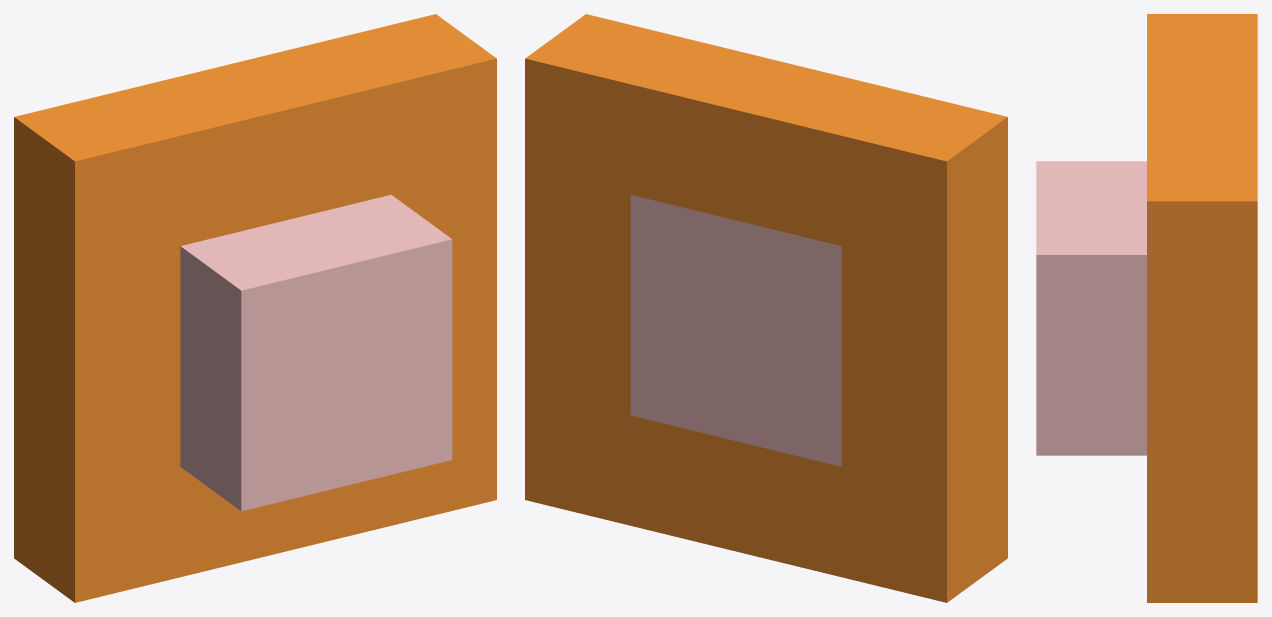
File: pracGenny-17-LShoulder.obj
The picture shows the model from 3 angles, left to right: view 1: azimuth 30°, elevation 25°; view 2: azimuth 150°, elevation 25°; view 3: azimuth 270°, elevation 25°; orthographic projection. The views are drawn at different scales.
Visible parts, largest first — view 1: LShoulder; view 2: LShoulder; view 3: LShoulder.
Boxes of the visible parts, left/top/right/bottom form: LShoulder: left=14, top=14, right=496, bottom=602; LShoulder: left=525, top=14, right=1007, bottom=602; LShoulder: left=1036, top=14, right=1257, bottom=602.
Size of the model in its own units: 0.4 by 0.4 by 0.2.
Materials: 1 (1 with a texture image).
